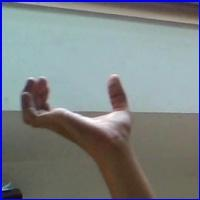B: (12, 68, 145, 159)
